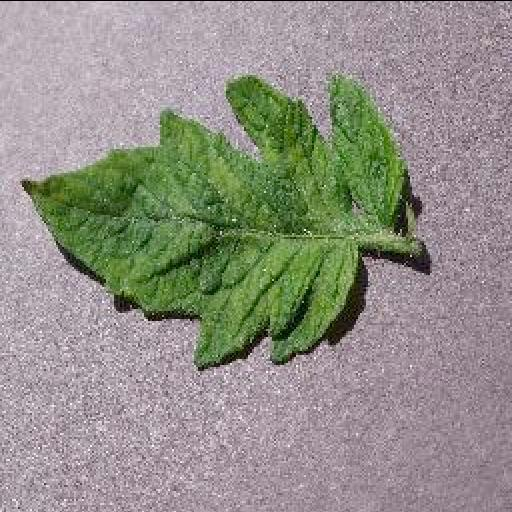Mosaic Virus: (16, 75, 408, 373)
